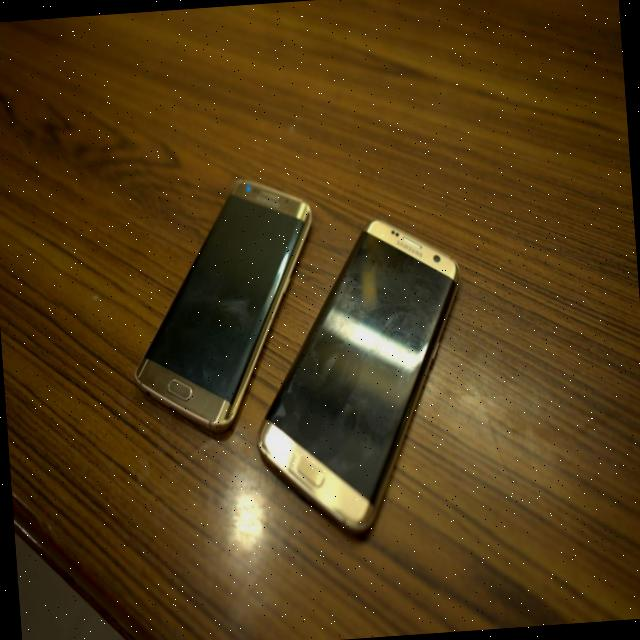Phone: (242, 208, 486, 552), (120, 170, 328, 444)
